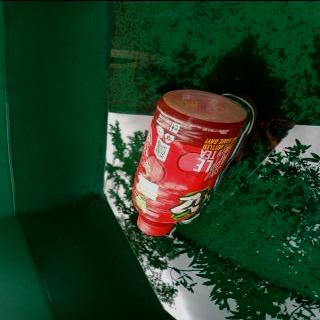bottle: (128, 80, 254, 240)
